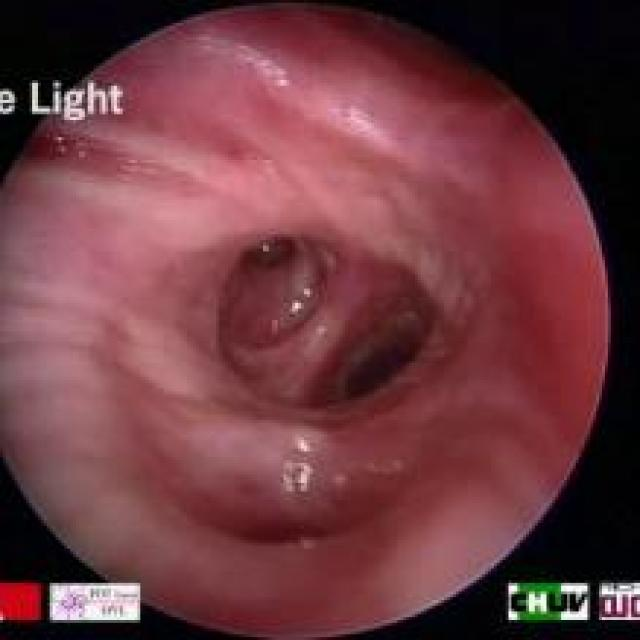blur: (1, 3, 601, 636)
color misalignment: (1, 577, 147, 629), (505, 580, 638, 621), (0, 81, 127, 121)
contrast: (343, 330, 414, 398)
specularity: (280, 456, 313, 497), (344, 106, 377, 127), (292, 433, 312, 454), (55, 132, 68, 157), (74, 139, 87, 160), (286, 296, 302, 313), (266, 317, 282, 334), (314, 321, 329, 338), (260, 242, 270, 256), (302, 284, 313, 296)
